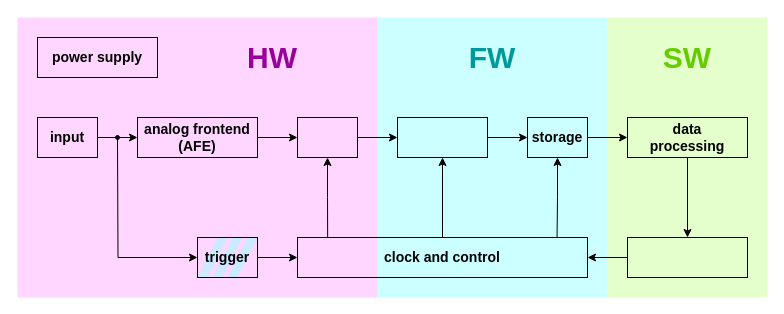
Image size: 784x314. Some labels were removed from this diagram. The centre of each missing label's shape, as x and y in pixels:
ADC: pixel 327 137
application/ visualization: pixel 687 257
pre-processing: pixel 442 137
